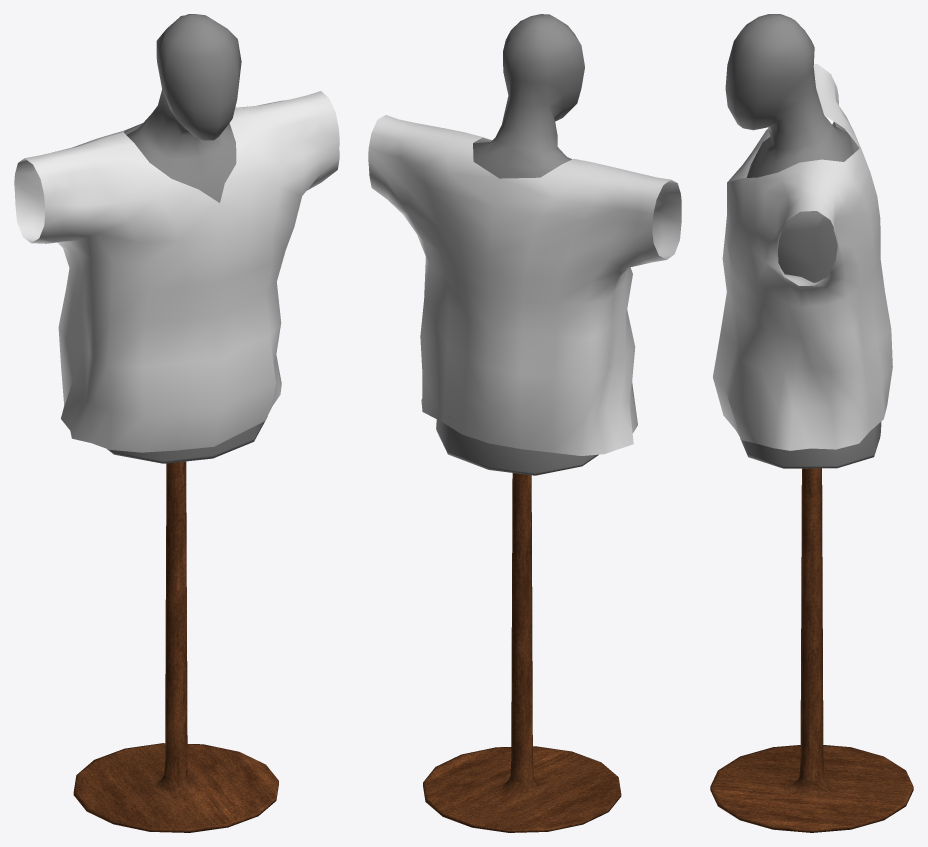
3 views of the same model, side by side, from view 1: azimuth 30°, elevation 25°; view 2: azimuth 150°, elevation 25°; view 3: azimuth 270°, elevation 25° (orthographic). The views are drawn at different scales.
Parts seen in each view (by area): view 1: Circle, male LOW; view 2: Circle, male LOW; view 3: Circle, male LOW.
Part boxes in pixels (x1=…): Circle: x1=14, y1=91, x2=339, y2=452; male LOW: x1=73, y1=14, x2=278, y2=832; Circle: x1=368, y1=115, x2=681, y2=455; male LOW: x1=423, y1=14, x2=621, y2=832; Circle: x1=713, y1=64, x2=892, y2=450; male LOW: x1=710, y1=14, x2=913, y2=832.
Size of the model in its own units: 0.5573 by 1.4 by 0.3332.
